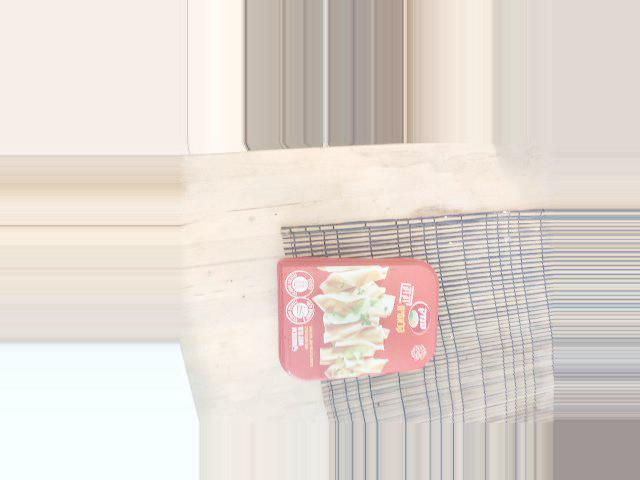cheese: (397, 247, 512, 457)
